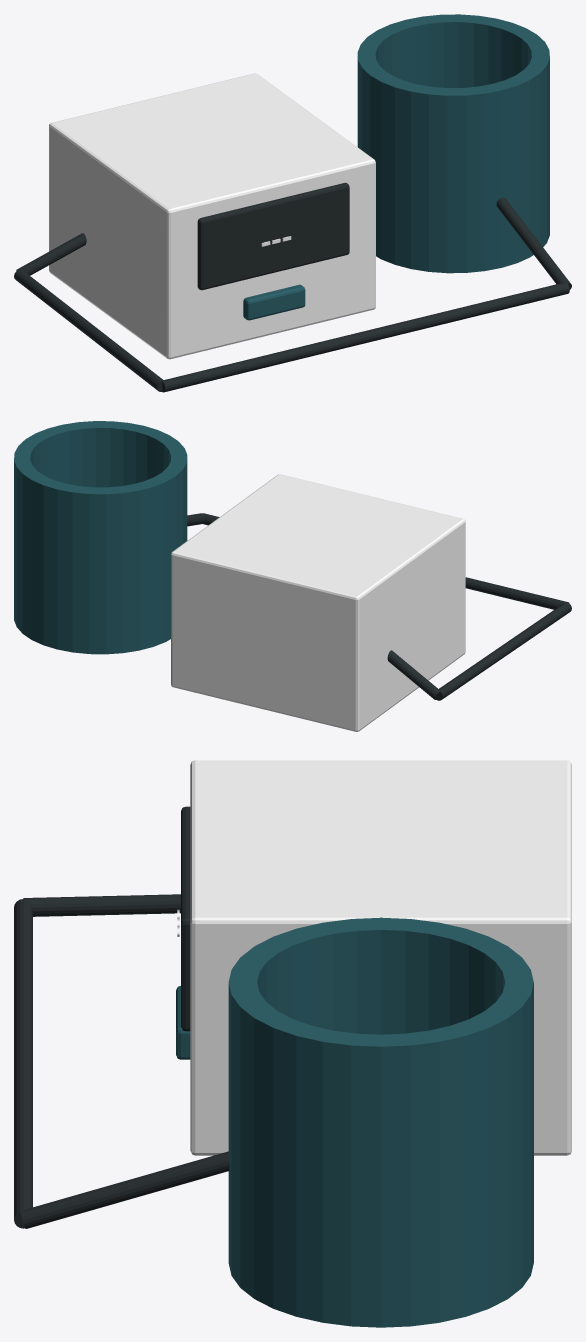
File: blood-pressure-monitor.glb
3 views of the same model, one above another, from view 1: azimuth 30°, elevation 25°; view 2: azimuth 150°, elevation 25°; view 3: azimuth 270°, elevation 25° (orthographic). The views are drawn at different scales.
Parts seen in each view (by area): view 1: Monitor_Housing, Fabric_Cuff, Display, Air_Tube.003, Air_Tube.002, Start_Button, Air_Tube, Air_Tube.001; view 2: Monitor_Housing, Fabric_Cuff, Air_Tube.002, Air_Tube.003, Air_Tube.001; view 3: Fabric_Cuff, Monitor_Housing, Air_Tube.003, Air_Tube, Air_Tube.002, Display.
Boxes of the visible parts, x1,y1,x2,y2 form: Monitor_Housing: [49, 73, 375, 359]; Fabric_Cuff: [357, 14, 549, 273]; Display: [197, 182, 349, 290]; Air_Tube.003: [162, 283, 569, 392]; Air_Tube.002: [14, 270, 163, 391]; Start_Button: [243, 284, 305, 320]; Air_Tube: [496, 197, 571, 289]; Air_Tube.001: [16, 233, 86, 275]; Monitor_Housing: [171, 474, 465, 731]; Fabric_Cuff: [14, 421, 187, 654]; Air_Tube.002: [436, 602, 571, 700]; Air_Tube.003: [203, 513, 569, 609]; Air_Tube.001: [387, 650, 439, 699]; Fabric_Cuff: [228, 917, 533, 1327]; Monitor_Housing: [190, 760, 571, 1155]; Air_Tube.003: [14, 899, 32, 1228]; Air_Tube: [20, 1151, 229, 1228]; Air_Tube.002: [23, 894, 180, 916]; Display: [181, 806, 190, 1031].
Size of the model in its own units: 0.378 by 0.13 by 0.234.
